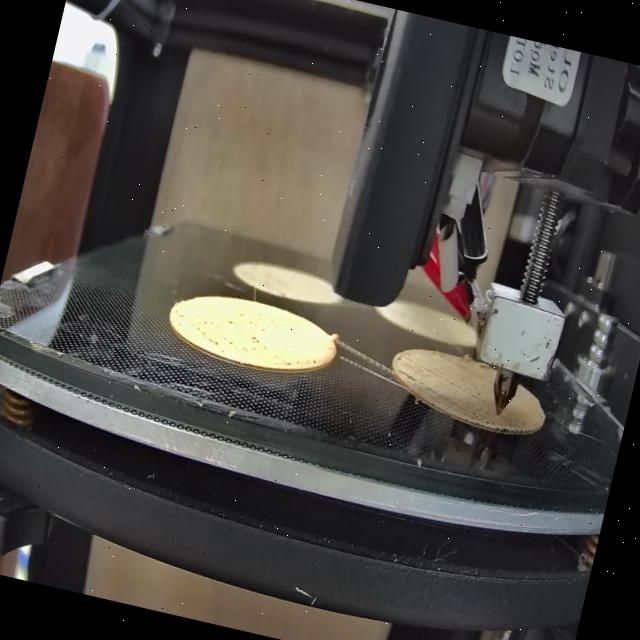under_extrusion: (165, 298, 269, 365), (387, 352, 482, 402), (276, 340, 321, 380), (479, 411, 523, 447)
